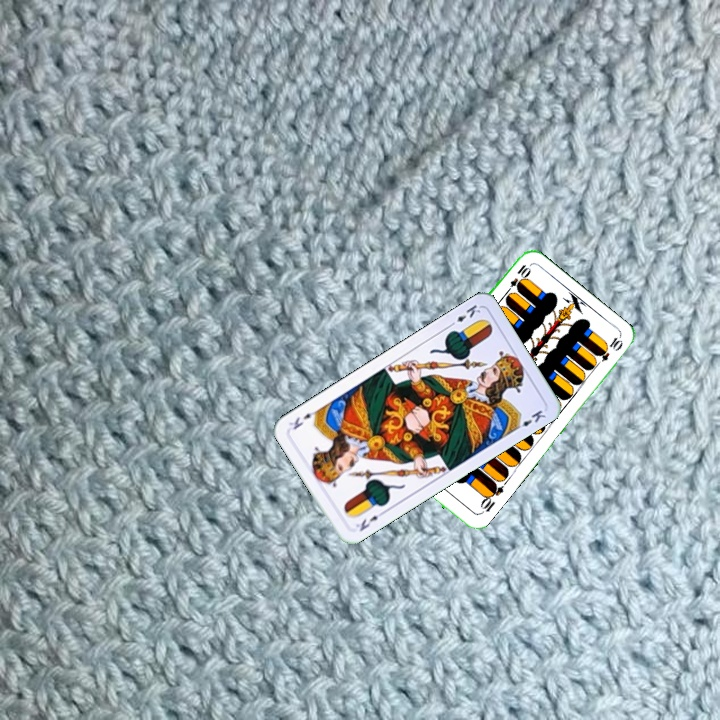E10: (475, 479, 506, 517), (502, 260, 533, 297)
EK: (445, 301, 483, 330), (352, 507, 387, 534)
